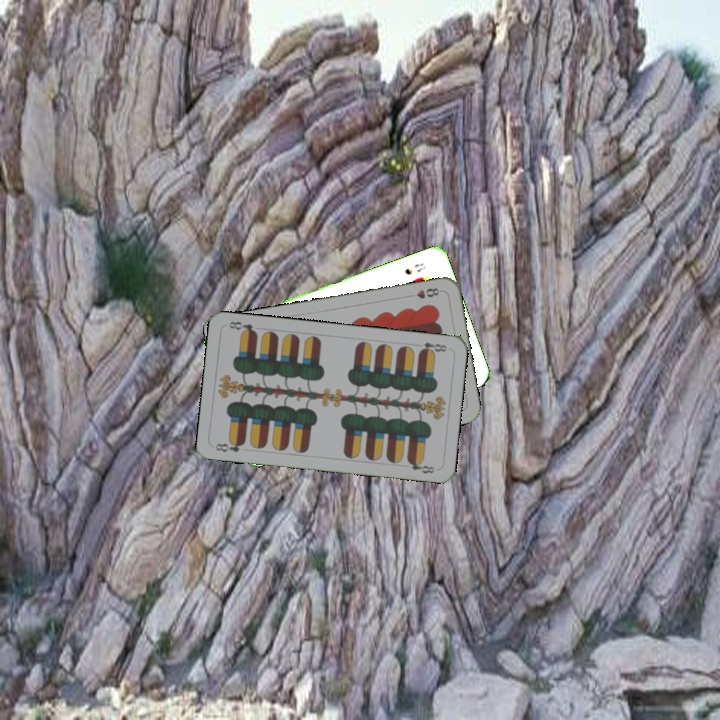E8: (411, 338, 449, 356), (211, 437, 248, 455)
H8: (412, 284, 442, 301)
S8: (400, 259, 428, 277)
